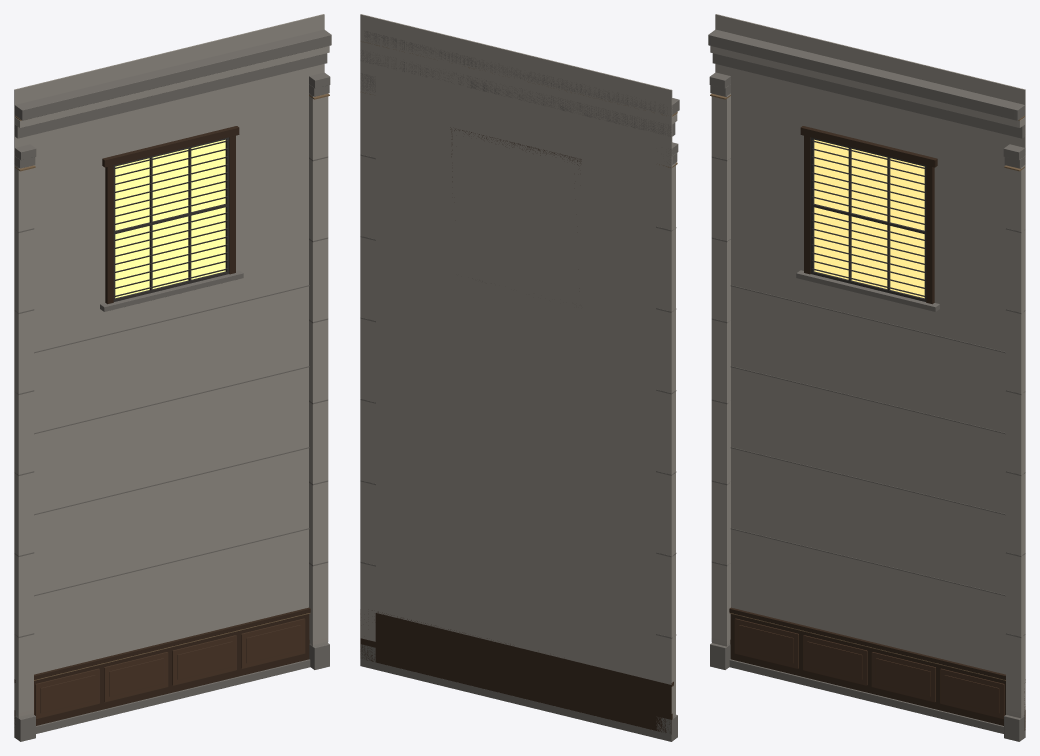
Rendered from tr_bay.glb.
The picture shows the model from 3 angles, left to right: view 1: azimuth 30°, elevation 25°; view 2: azimuth 150°, elevation 25°; view 3: azimuth 330°, elevation 25°; orthographic projection.
Parts seen in each view (by area): view 1: tr_bay; view 2: tr_bay; view 3: tr_bay.
Boxes of the visible parts, left/top/right/bottom form: tr_bay: left=14, top=14, right=331, bottom=741; tr_bay: left=360, top=14, right=679, bottom=741; tr_bay: left=708, top=14, right=1025, bottom=741.
Bounding box in the file's own units: 8 × 16 × 0.3625.
